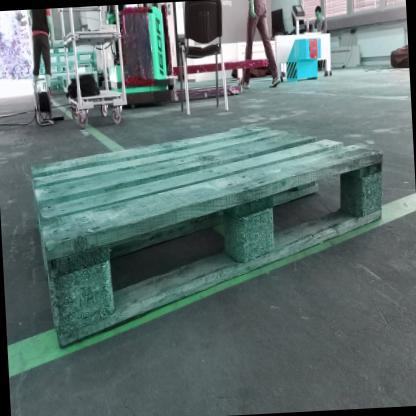BoxFace: (26, 117, 385, 351)
